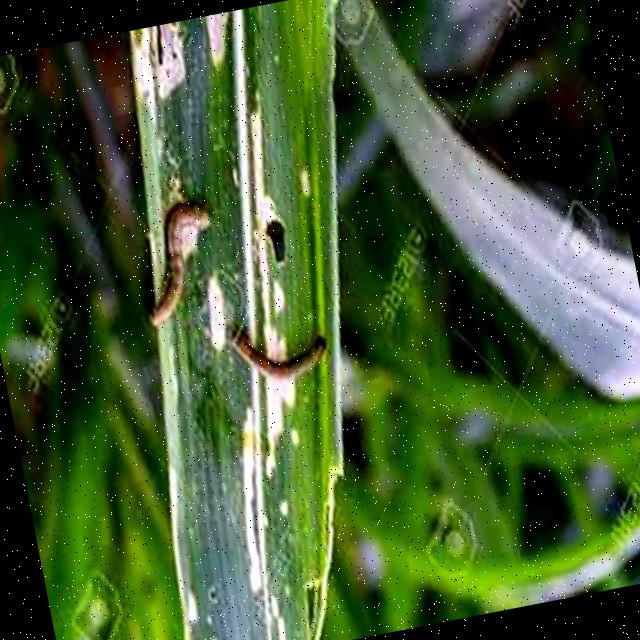worm: (131, 199, 232, 330), (228, 309, 337, 393)
